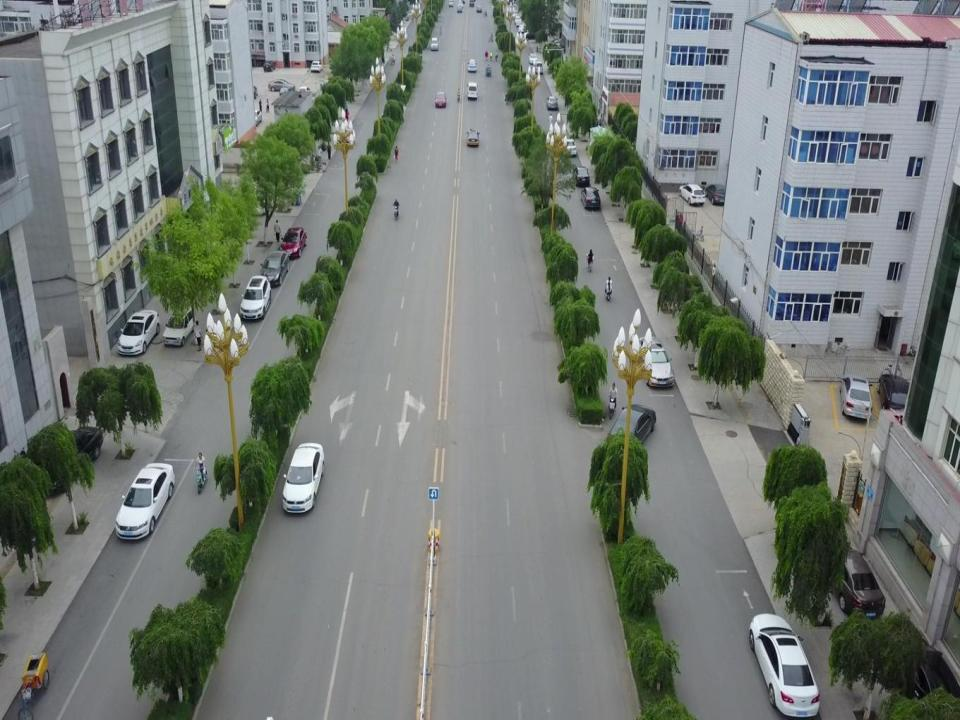car: (747, 612, 819, 720), (888, 628, 960, 715), (25, 423, 103, 493), (820, 540, 885, 618), (114, 461, 175, 540), (282, 441, 324, 515), (605, 403, 656, 455), (636, 336, 674, 389), (878, 374, 916, 424), (118, 310, 159, 356), (162, 302, 197, 346), (840, 374, 873, 420), (239, 274, 271, 320), (260, 250, 289, 286), (279, 226, 306, 257), (678, 183, 706, 204), (580, 187, 601, 210), (705, 184, 729, 204), (570, 166, 590, 185), (268, 79, 295, 92), (246, 110, 262, 128), (242, 84, 258, 102), (560, 138, 576, 156), (466, 128, 480, 146), (340, 128, 354, 146), (466, 81, 478, 100), (525, 30, 542, 41), (435, 92, 446, 108), (280, 86, 295, 97), (546, 96, 558, 109), (263, 60, 275, 72), (311, 60, 322, 72), (528, 52, 538, 64), (299, 87, 310, 97), (467, 60, 476, 72), (430, 37, 438, 50), (476, 4, 483, 12), (469, 0, 474, 8), (457, 1, 463, 7), (448, 0, 453, 7), (457, 7, 462, 11)
van: (535, 61, 543, 74)
